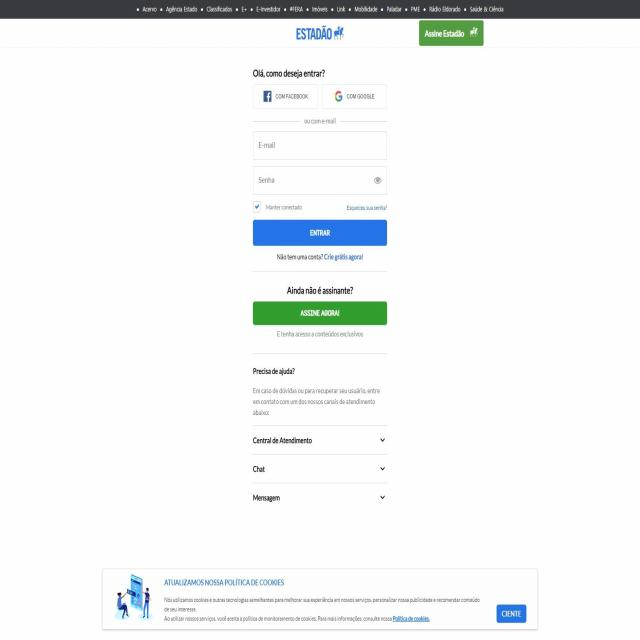button: (253, 300, 386, 326), (253, 220, 387, 245), (419, 20, 485, 46), (254, 84, 319, 110), (323, 84, 388, 110), (496, 603, 527, 624)
checkbox: (250, 200, 306, 213)
input: (252, 165, 387, 195), (252, 130, 388, 159)
select: (253, 430, 386, 451), (253, 458, 386, 479), (252, 488, 386, 508)
